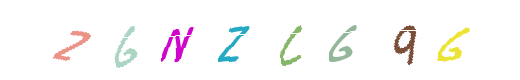2: (51, 0, 131, 80)
9: (366, 0, 446, 80)
C: (219, 0, 299, 80)
G: (137, 0, 217, 80), (285, 0, 365, 80), (412, 0, 492, 80)
N: (160, 0, 240, 80)
Z: (192, 0, 272, 80)
